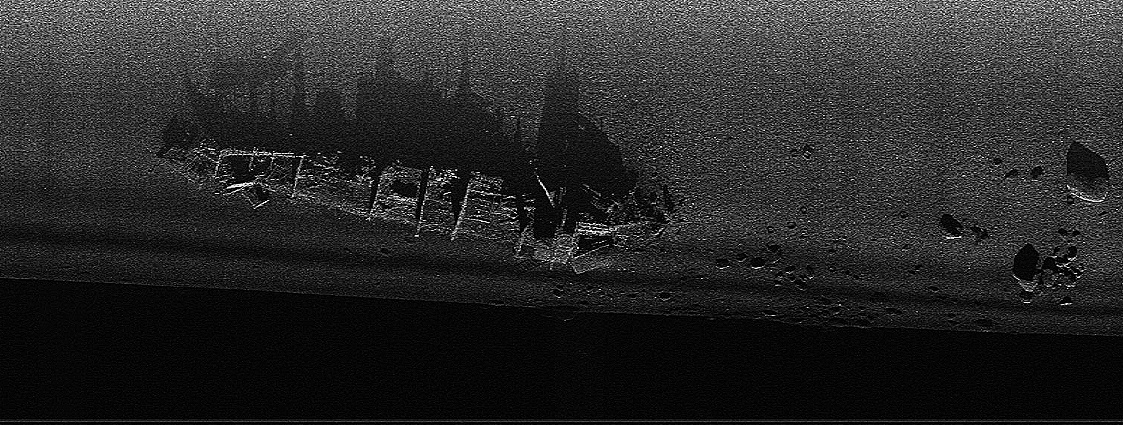ship: (153, 137, 676, 277)
